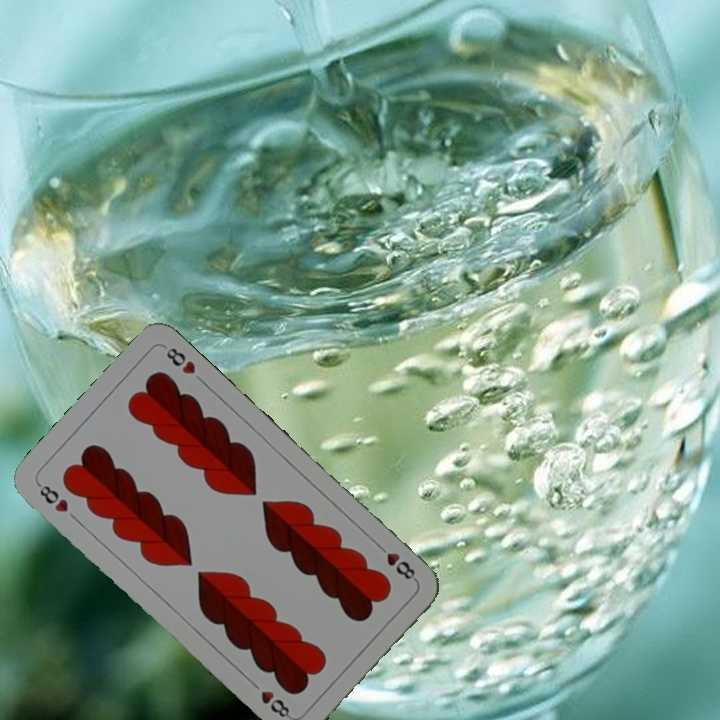H8: (372, 539, 420, 584), (33, 479, 71, 515)
